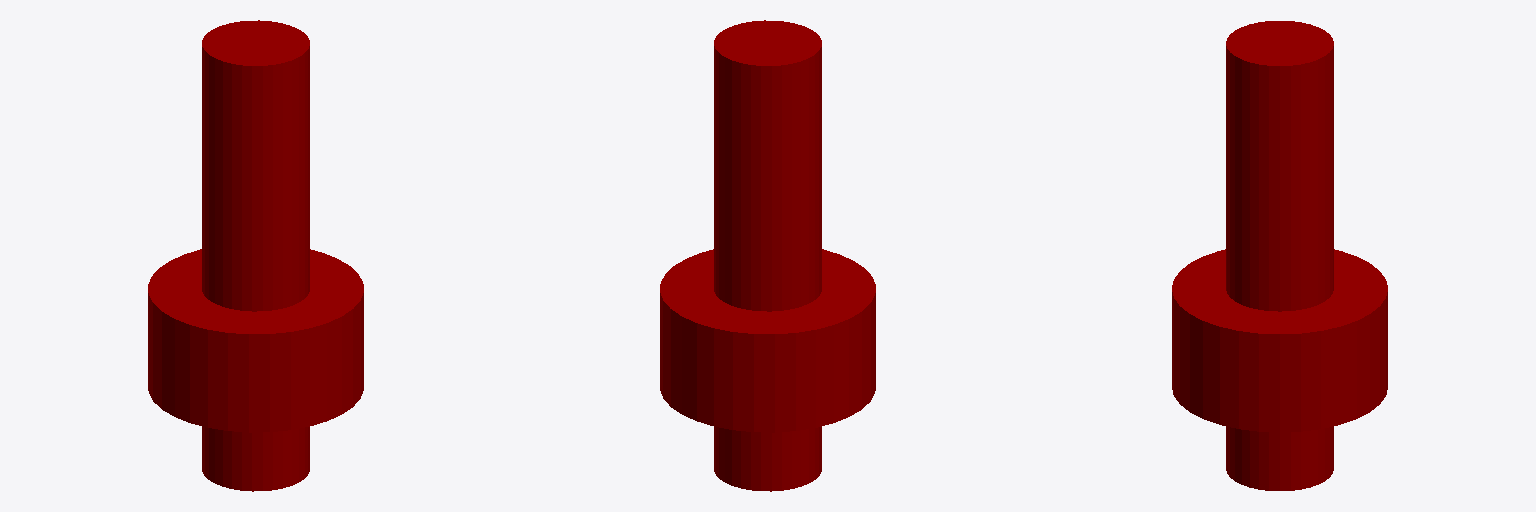
The robot description file, URDF, robot "robot":
<?xml version='1.0'?>
<robot>
  <link name="base_link">
    <visual>
     <geometry>
       <mesh filename="package://ros_ship_description/world/buoy/mesh/RED_BUOY.dae"/>
     </geometry>
   </visual>
   <collision name="base_link_collision">
     <geometry>
       <mesh filename="package://ros_ship_description/world/buoy/mesh/RED_BUOY.dae"/>
     </geometry>
   </collision>
   <inertial>
     <mass value="40"/>
     <inertia ixx="50" ixy="0.00" ixz="0" iyy="50" iyz="0.00" izz="0.1"/>
   </inertial>
  </link>

  <joint name="base_link_joint" type="fixed">
    <origin xyz="0 0 0.1"/>
    <parent link="top_link"/>
    <child link="base_link"/>
  </joint>

  <link name="top_link">
    <inertial>
      <mass value="10"/>
      <inertia ixx="50" ixy="0.00" ixz="0" iyy="50" iyz="0.00" izz="0.1"/>
    </inertial>
  </link>

  <gazebo>
    <plugin name="simple_buoyancy" filename="libsimple_buoyancy_plugin.so">
      <target_link>top_link</target_link>
      <cob_x>0</cob_x>
      <cob_y>0</cob_y>
      <cob_z>0</cob_z>
      <bbox_x>0.6</bbox_x>
      <bbox_y>0.6</bbox_y>
      <bbox_z>0.5</bbox_z>
      <publish_data>false</publish_data>
    </plugin>
  </gazebo>

</robot>

--- Render facts (derived) ---
Views: 3 orthographic renders of the robot side by side, from view 1: azimuth 30°, elevation 25°; view 2: azimuth 150°, elevation 25°; view 3: azimuth 270°, elevation 25°.
Model robot with 2 links and 1 joints (1 fixed), rooted at top_link, posed every joint at zero.
Visible links, largest first — view 1: base_link; view 2: base_link; view 3: base_link.
Boxes of the visible links, x1=… form: base_link: x1=148, y1=20, x2=363, y2=491; base_link: x1=660, y1=20, x2=875, y2=491; base_link: x1=1172, y1=21, x2=1387, y2=490.
Bounding box of the posed robot: 1.2 × 1.2 × 2.6 m (x, y, z).
Meshes: 1 distinct files referenced, 1 mesh visuals loaded (1 Collada DAE).